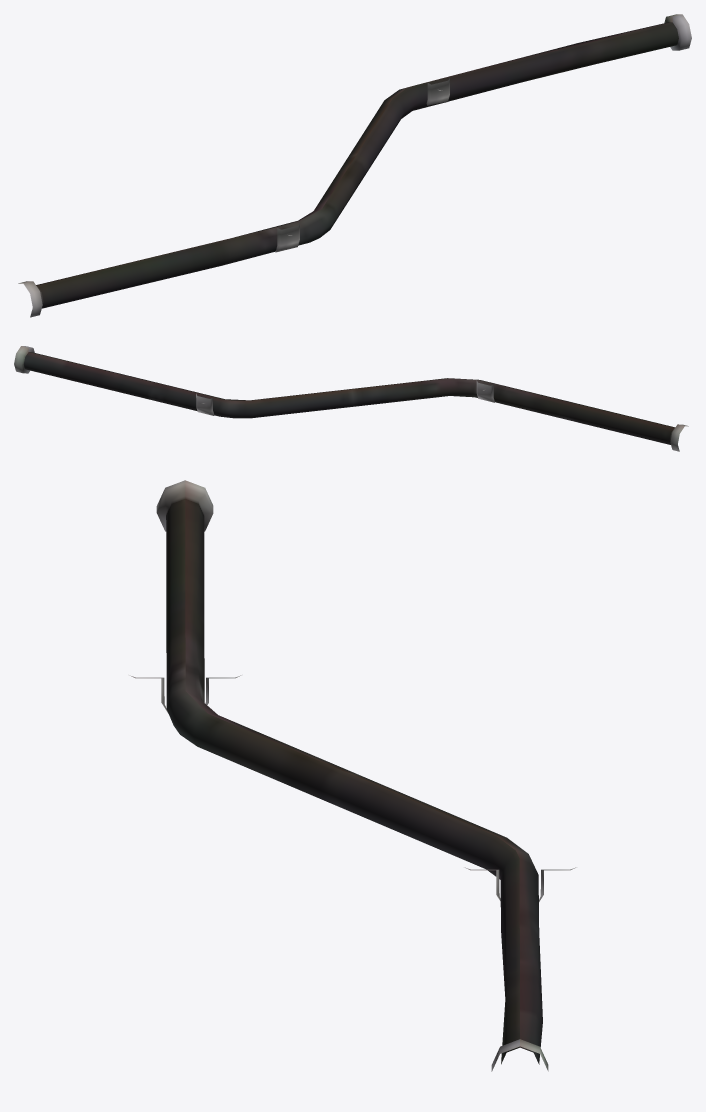
The model's file is electric_cable_100_b.glb.
3 views of the same model, one above another, from view 1: azimuth 30°, elevation 25°; view 2: azimuth 150°, elevation 25°; view 3: azimuth 270°, elevation 25° (orthographic). The views are drawn at different scales.
Parts seen in each view (by area): view 1: electric_cable_100_b; view 2: electric_cable_100_b; view 3: electric_cable_100_b.
Part boxes in pixels (<box>): electric_cable_100_b: <box>18,14,691,317</box>; electric_cable_100_b: <box>14,346,688,451</box>; electric_cable_100_b: <box>129,480,576,1071</box>.
Size of the model in its own units: 1 by 0.043 by 0.3364.
Materials: 1 (1 with a texture image).
